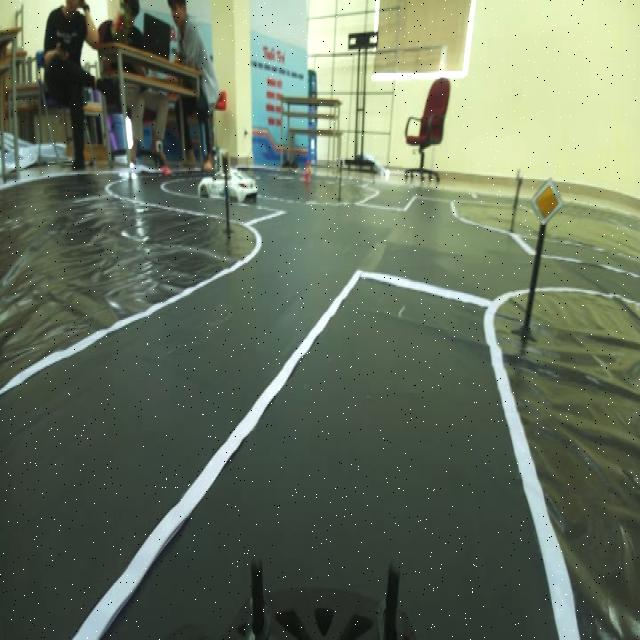priority: (532, 174, 566, 239)
